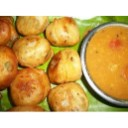bonda: (10, 67, 47, 104), (14, 34, 48, 65), (51, 50, 83, 82), (49, 85, 88, 109), (49, 18, 81, 45), (1, 46, 17, 85), (15, 16, 46, 33)
